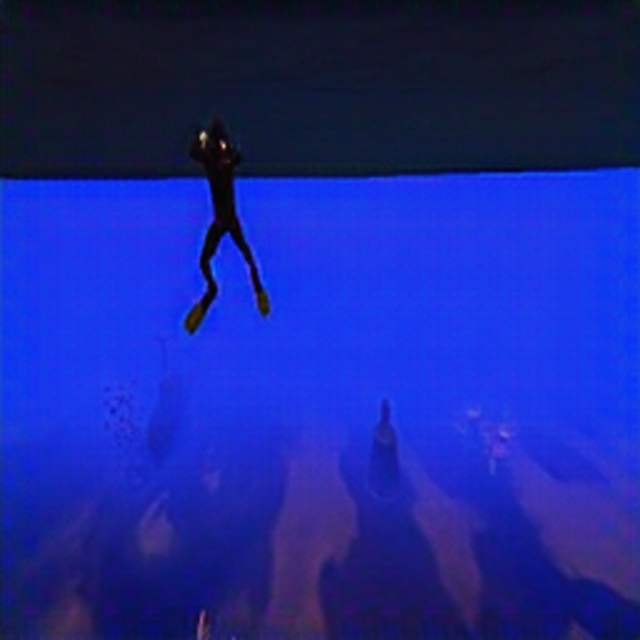diver: (185, 115, 270, 320)
